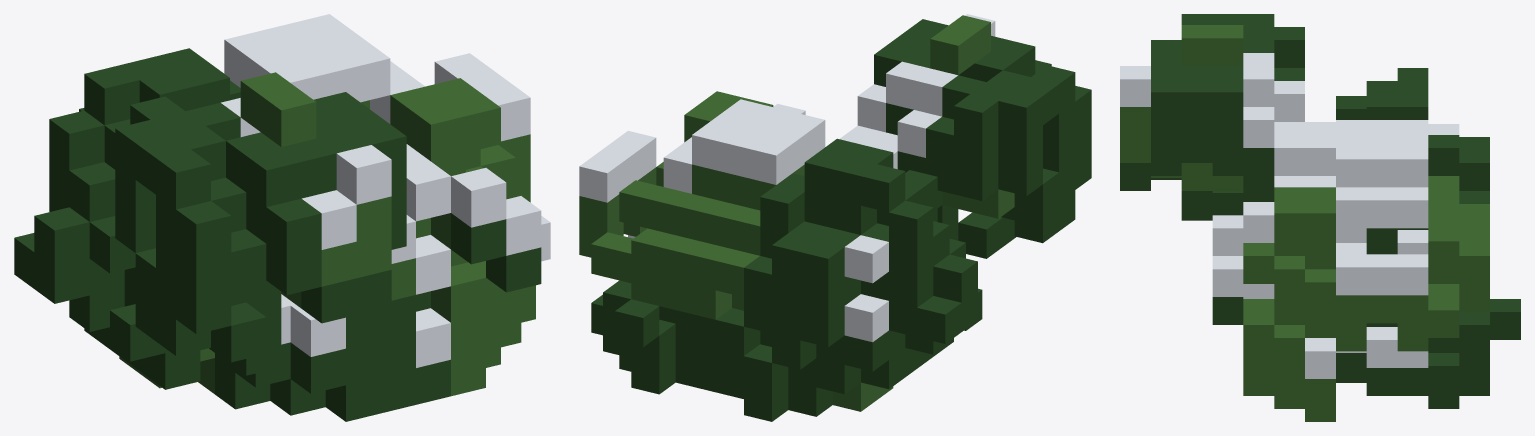
File: bush_alpine_2.obj
The picture shows the model from 3 angles, left to right: view 1: azimuth 30°, elevation 25°; view 2: azimuth 150°, elevation 25°; view 3: azimuth 270°, elevation 25°; orthographic projection. The views are drawn at different scales.
Bounding box in the file's own units: 0.975 × 0.75 × 0.975.
Materials: 1 (1 with a texture image).
